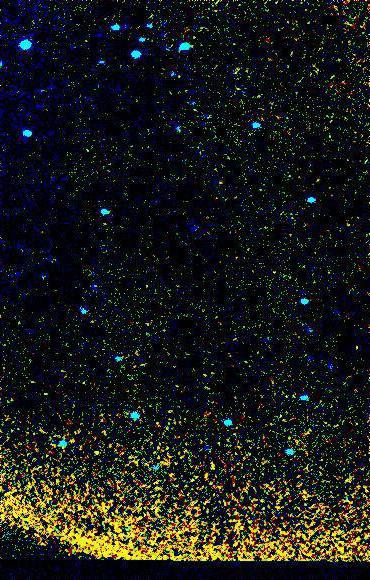star: (85, 434, 115, 464)
